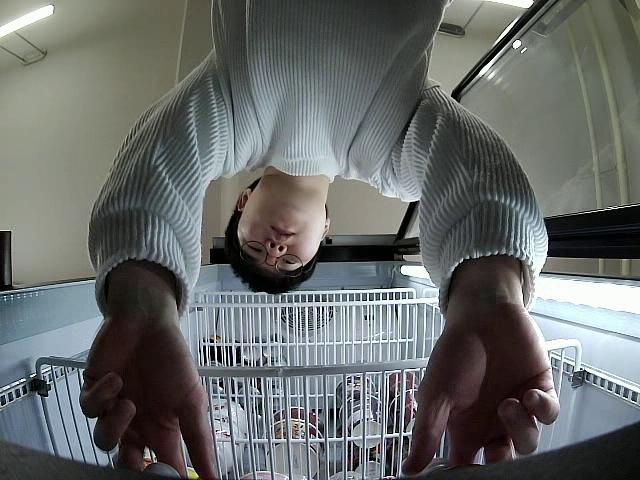00_hand: (401, 302, 560, 475), (80, 314, 219, 480)
